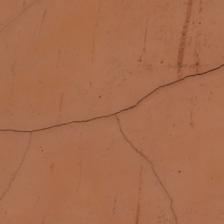Crack: (38, 0, 99, 209), (0, 72, 73, 138), (80, 56, 99, 168)
